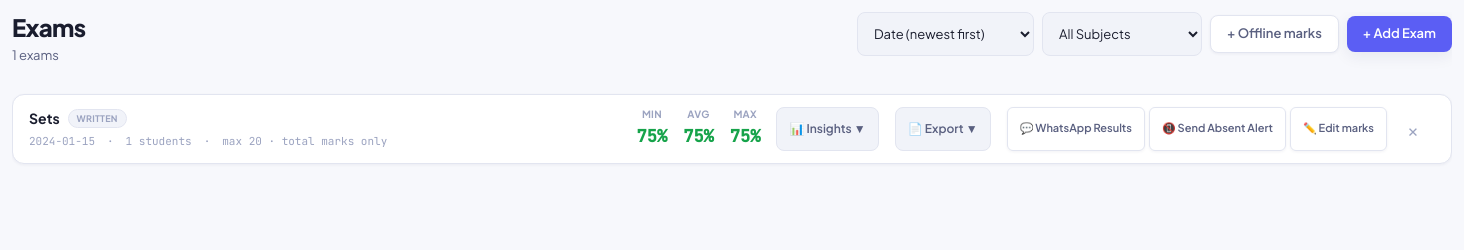
Exams page — written exams offer Edit marks, not re-upload › offers the class PDF on a written exam
This screenshot has width=1464, height=250.
Click the button "📄 Export ▼": (943, 128) [895,106,991,150]
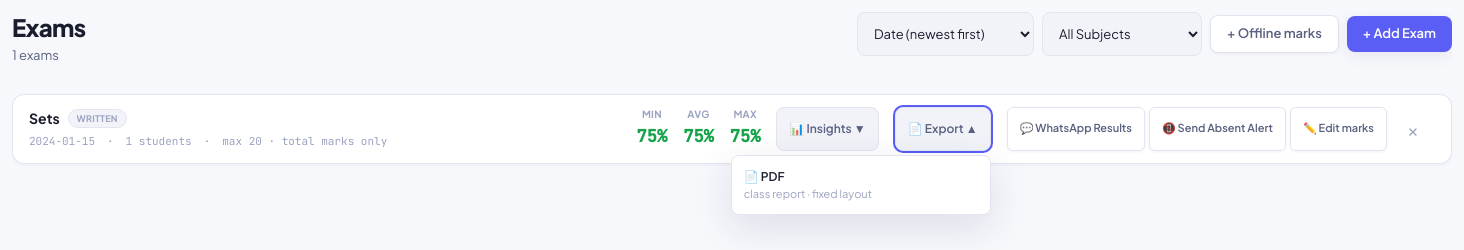
expect the menu item "📄 PDF class report · fixed layout" is shown: met, box [732,160,990,210]
